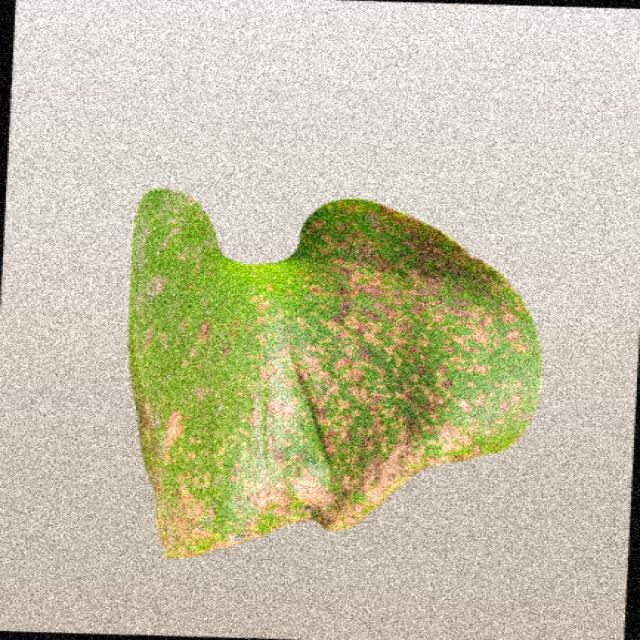daun berpenyakit bercak: (130, 190, 541, 558)
